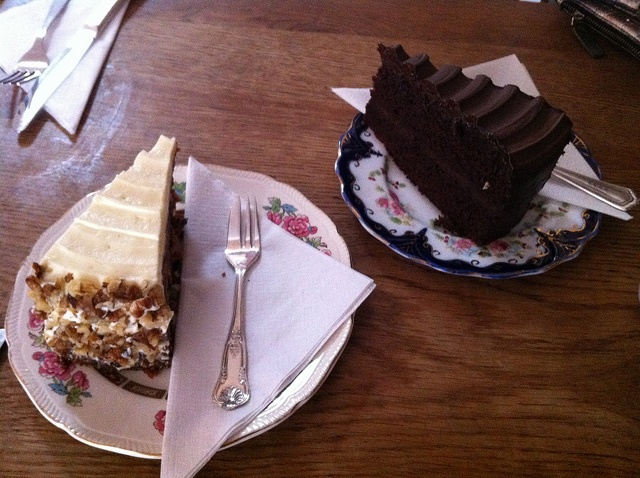Cake: (345, 28, 594, 260), (15, 96, 205, 389)
